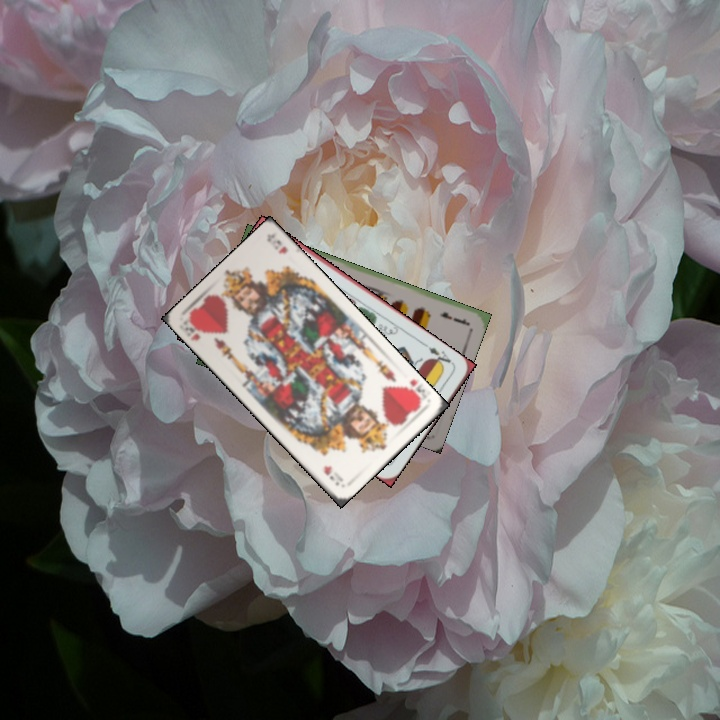E7: (436, 308, 471, 328)
EA: (424, 342, 456, 371)
HK: (397, 375, 424, 408), (181, 314, 207, 343)
